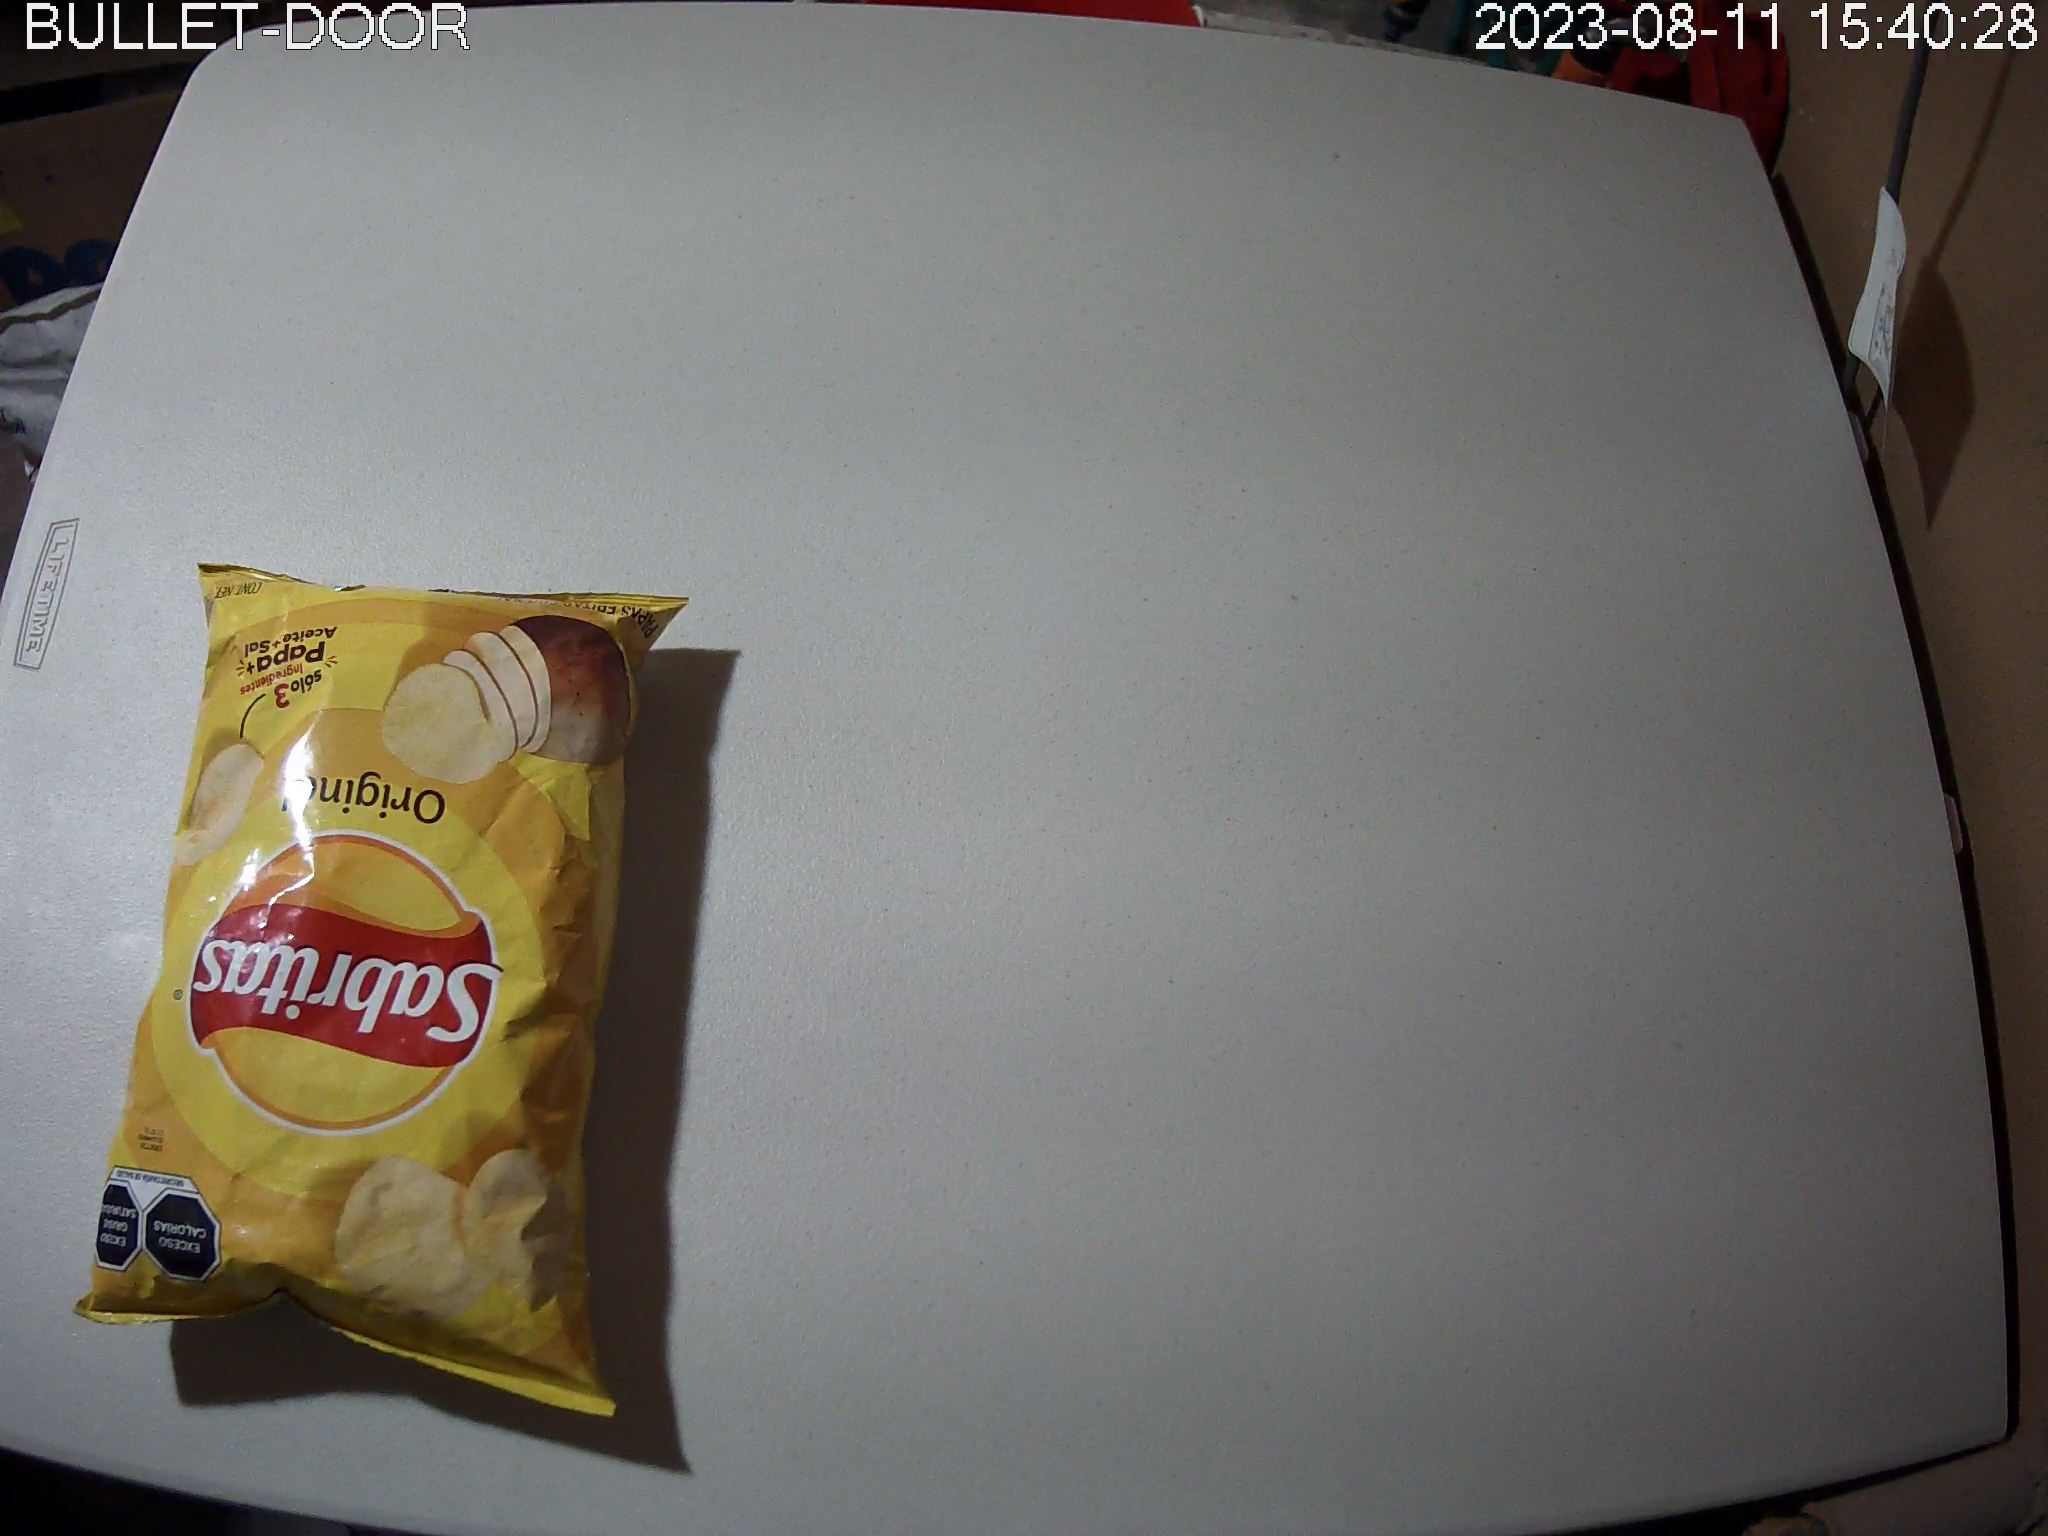Sabritas_160_F: (71, 558, 692, 1418)
